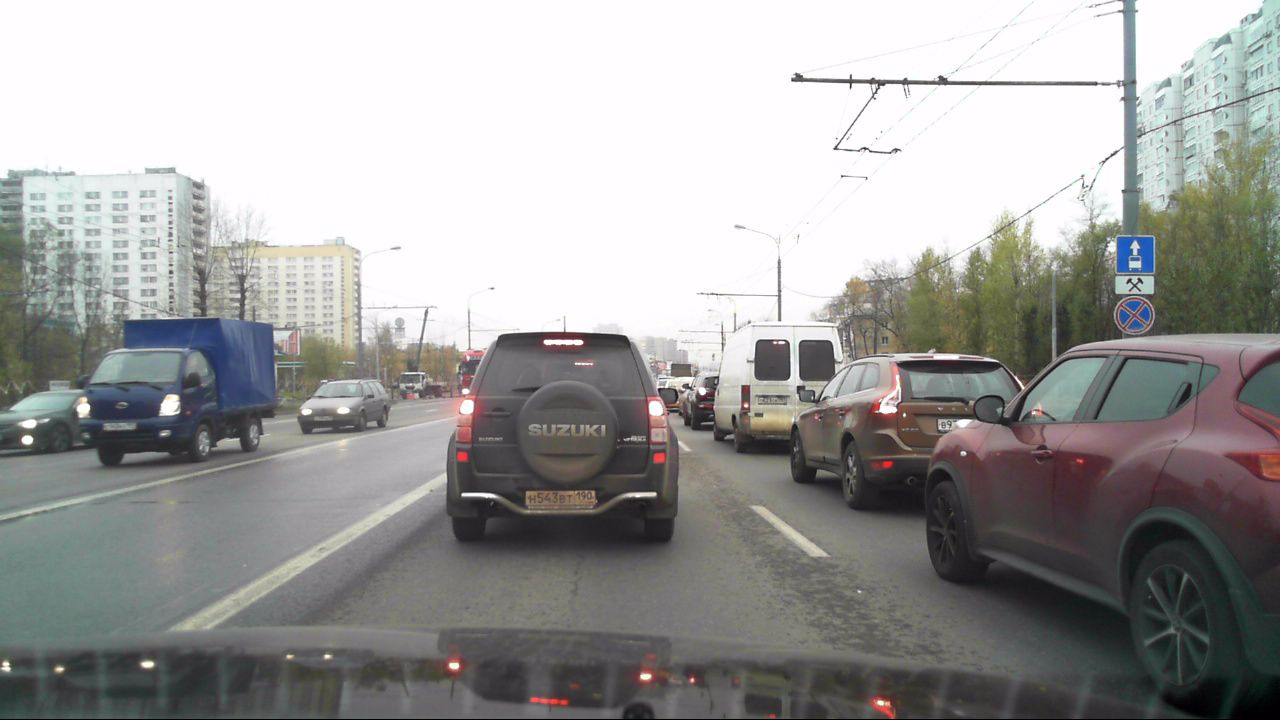No Parking: (1115, 296, 1156, 336)
